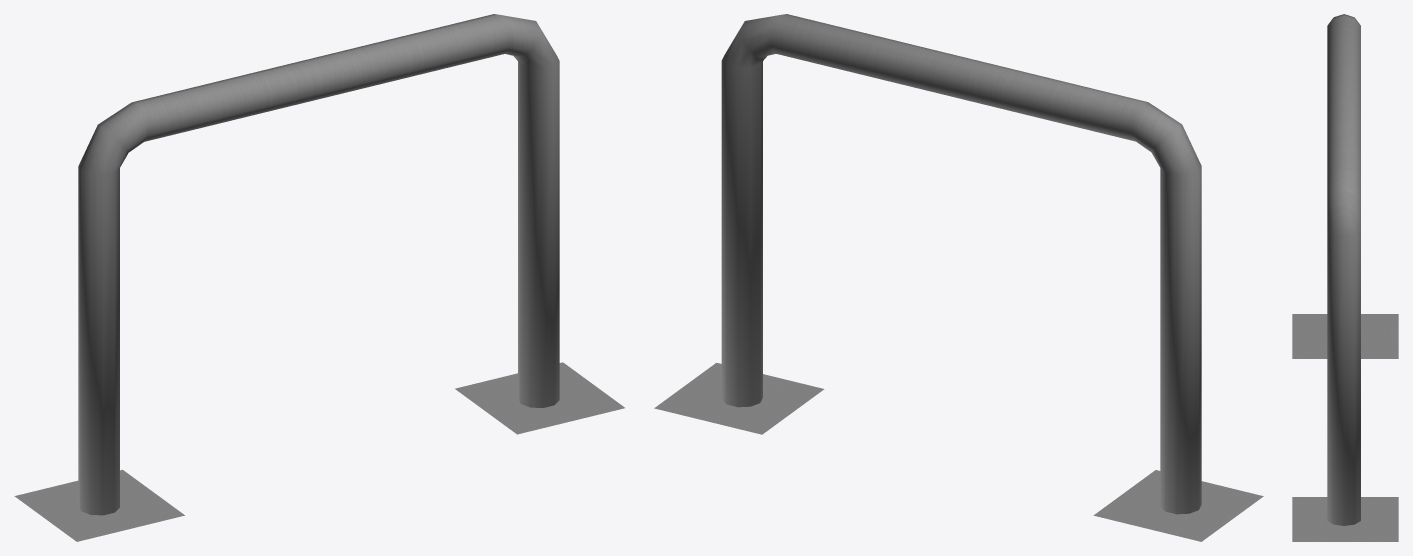
Rendered from Goal_Post.fbx.
3 renders of one model, left to right at view 1: azimuth 30°, elevation 25°; view 2: azimuth 150°, elevation 25°; view 3: azimuth 270°, elevation 25°, orthographic. The views are drawn at different scales.
Parts seen in each view (by area): view 1: Cylinder, Plane, Plane__1_; view 2: Cylinder, Plane__1_, Plane; view 3: Cylinder, Plane, Plane__1_.
Part boxes in pixels (x1,y1,x2,y2): Cylinder: (78,14,559,515); Plane: (455,362,624,434); Plane__1_: (14,469,184,541); Cylinder: (721,14,1201,514); Plane__1_: (1093,470,1263,541); Plane: (654,362,824,434); Cylinder: (1327,14,1360,525); Plane: (1292,497,1398,541); Plane__1_: (1292,314,1398,358).
Size of the model in its own units: 75.9 by 52.45 by 15.
Materials: 1 (1 with a texture image).
